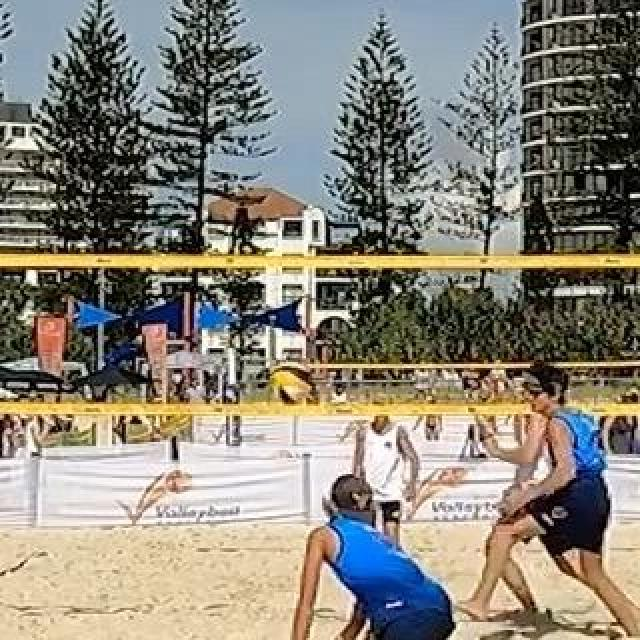volleyball: (268, 364, 316, 408)
